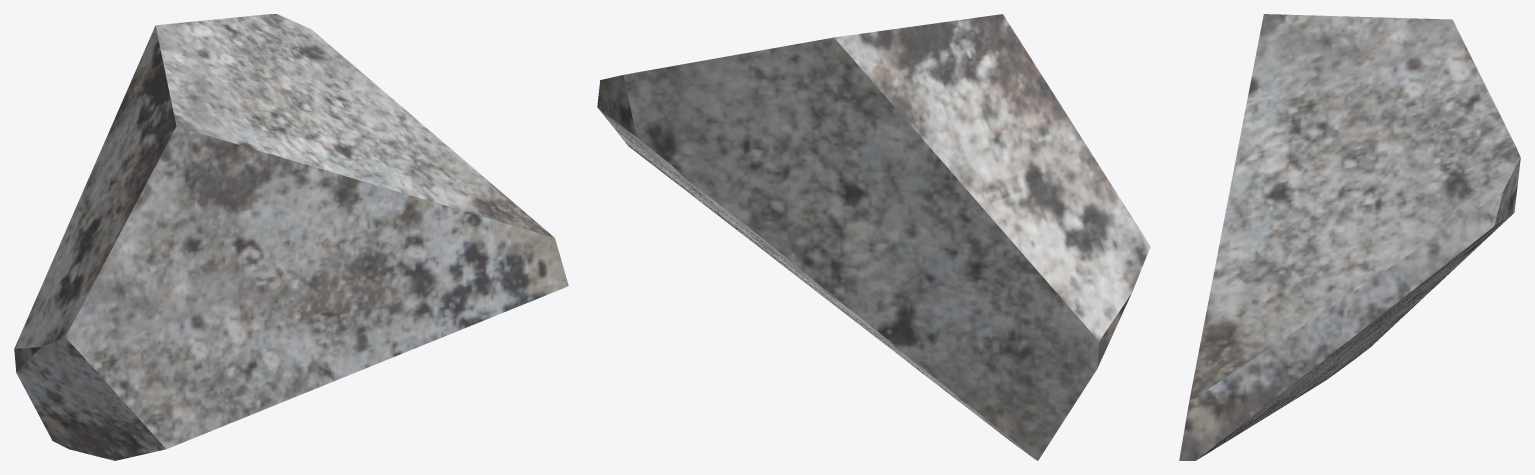
The model's file is Asteroid_Large_001_02_001_03_022.fbx.
3 renders of one model, left to right at view 1: azimuth 30°, elevation 25°; view 2: azimuth 150°, elevation 25°; view 3: azimuth 270°, elevation 25°, orthographic. The views are drawn at different scales.
Visible parts, largest first — view 1: Asteroid_Large_001_02_001_03_022; view 2: Asteroid_Large_001_02_001_03_022; view 3: Asteroid_Large_001_02_001_03_022.
Boxes of the visible parts, left/top/right/bottom form: Asteroid_Large_001_02_001_03_022: left=14, top=14, right=568, bottom=460; Asteroid_Large_001_02_001_03_022: left=597, top=14, right=1150, bottom=460; Asteroid_Large_001_02_001_03_022: left=1179, top=14, right=1520, bottom=460.
Size of the model in its own units: 9.47 by 6.87 by 5.14.
